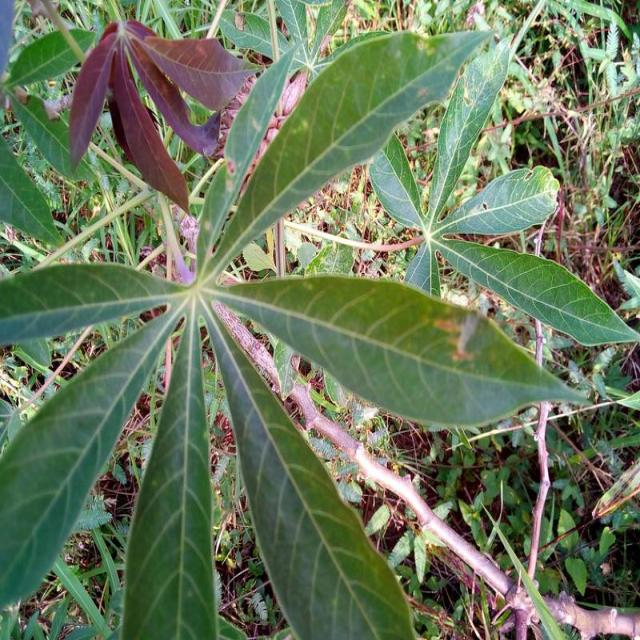cassava leaf: (2, 17, 638, 637), (199, 26, 497, 280), (204, 294, 418, 638), (210, 272, 593, 430)
